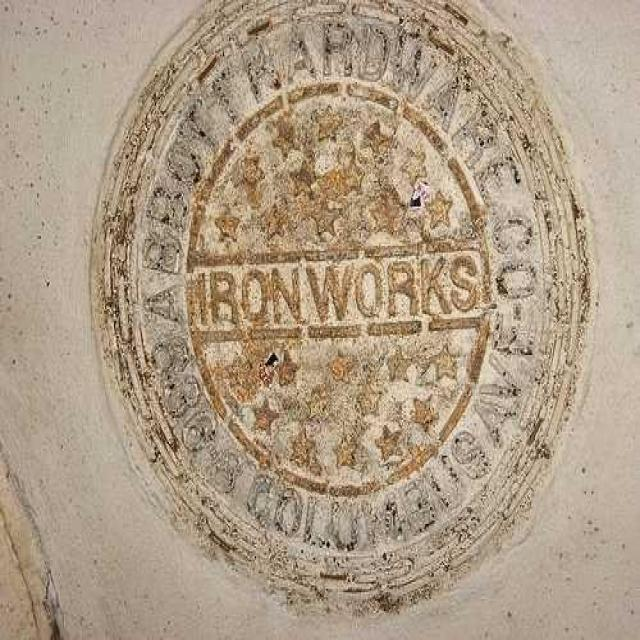manhole: (88, 0, 596, 618)
